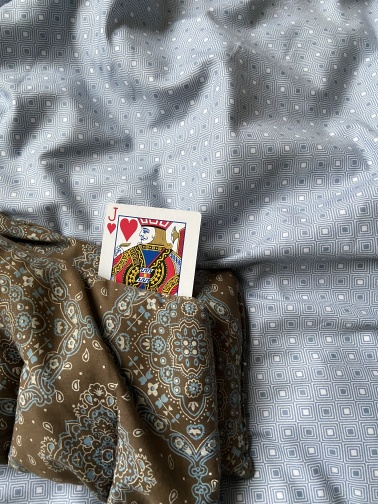jack: (82, 202, 203, 357)
